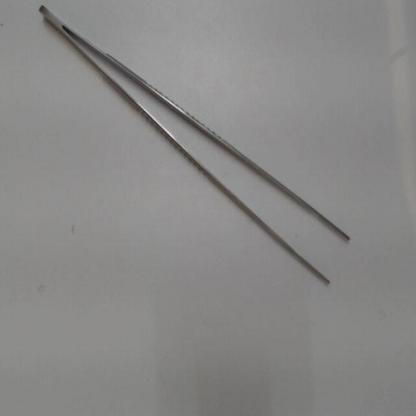DeBakey Dissector: (32, 6, 368, 314)
